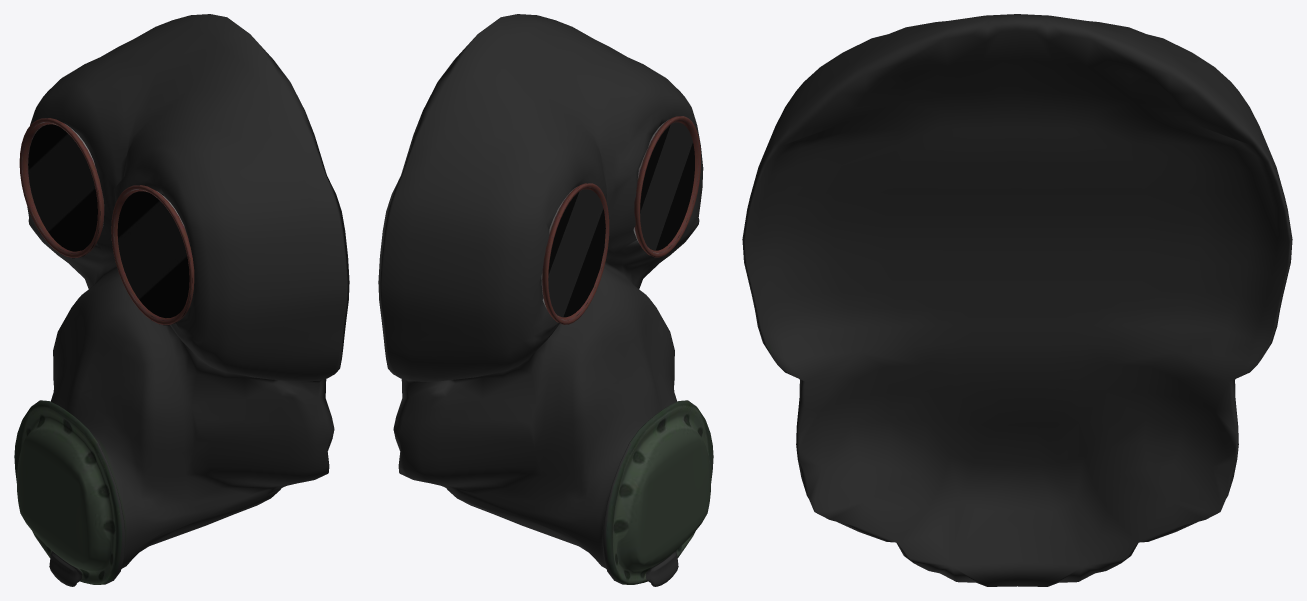
Rendered from mask-model.glb.
3 views of the same model, side by side, from view 1: azimuth 30°, elevation 25°; view 2: azimuth 150°, elevation 25°; view 3: azimuth 270°, elevation 25° (orthographic). The views are drawn at different scales.
Visible parts, largest first — view 1: mask, lens_left, lens_right, frame_right, frime_left; view 2: mask, lens_right, lens_left, frime_left, frame_right; view 3: mask.
Boxes of the visible parts, left/top/right/bottom form: mask: left=14, top=14, right=349, bottom=586; lens_left: left=117, top=191, right=189, bottom=318; lens_right: left=28, top=124, right=97, bottom=251; frame_right: left=19, top=118, right=104, bottom=258; frime_left: left=111, top=185, right=194, bottom=325; mask: left=378, top=14, right=713, bottom=586; lens_right: left=548, top=189, right=605, bottom=317; lens_left: left=640, top=122, right=694, bottom=250; frime_left: left=633, top=116, right=701, bottom=257; frame_right: left=541, top=183, right=609, bottom=324; mask: left=742, top=14, right=1292, bottom=586.
Size of the model in its own units: 0.00357 by 0.00902 by 0.00698.
Materials: 1 (1 with a texture image).
